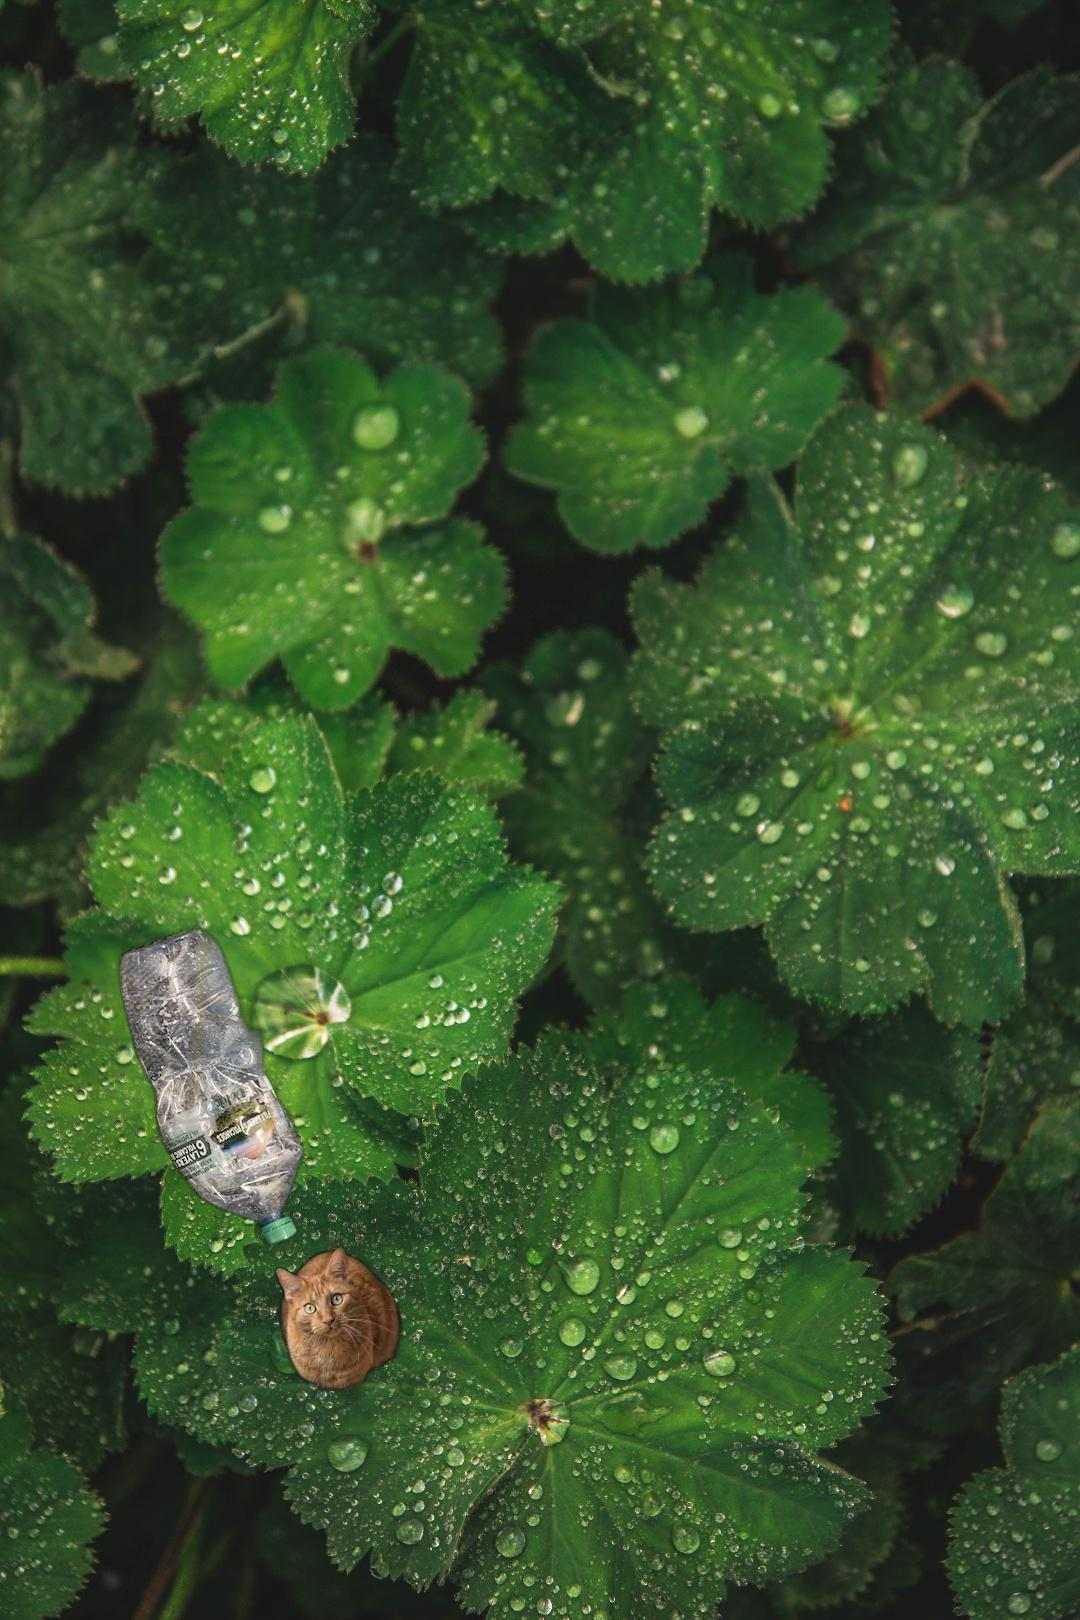plastic-bottles: (112, 906, 348, 1252)
trashbox-cardboard: (149, 1113, 554, 1455)
